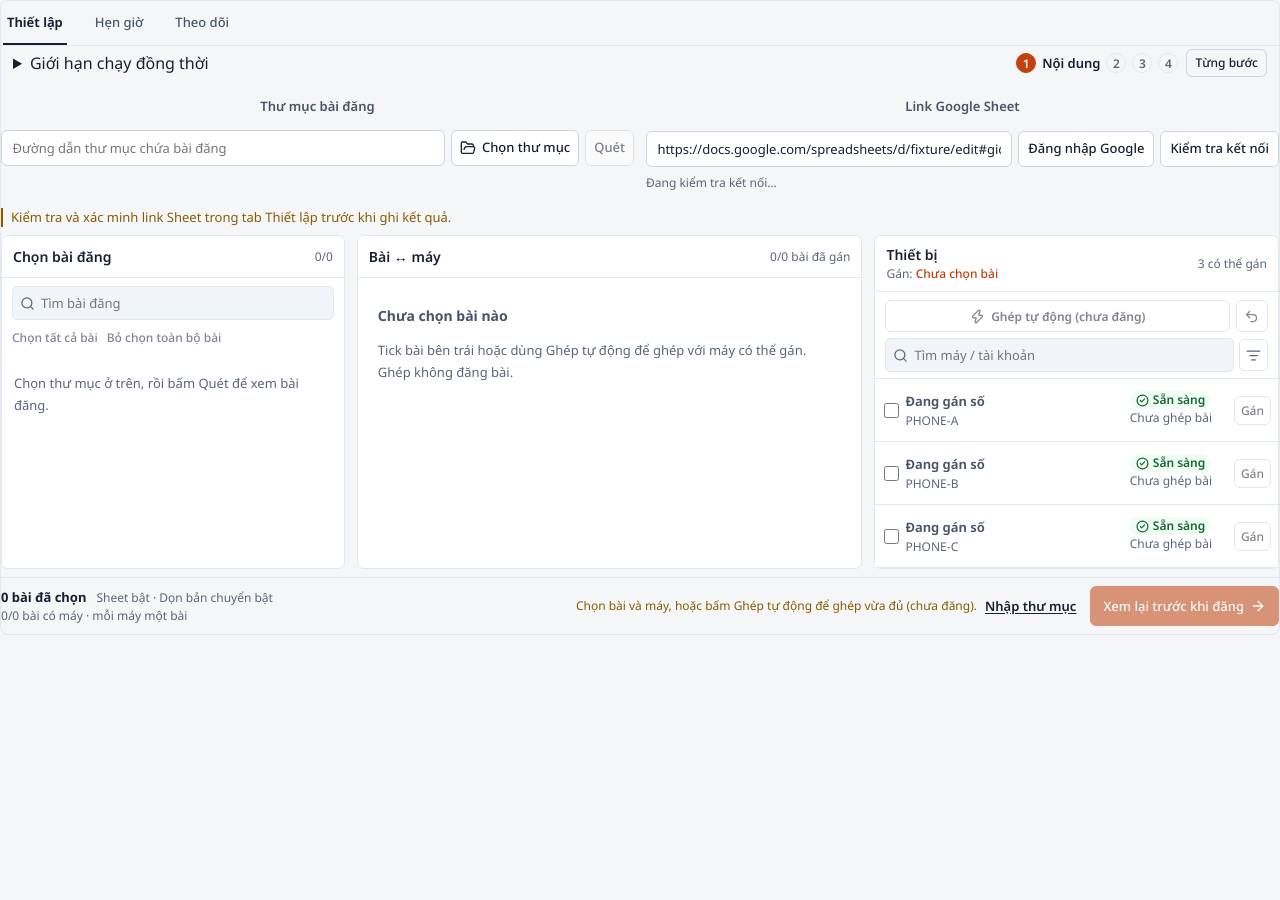
production publish wizard › preflight reads device checks without stopping owners or starting a post
The width and height of the screenshot is (1280, 900).
Click the button "Chọn thư mục". click: (515, 148)
box: x1=451 y1=130 x2=579 y2=166
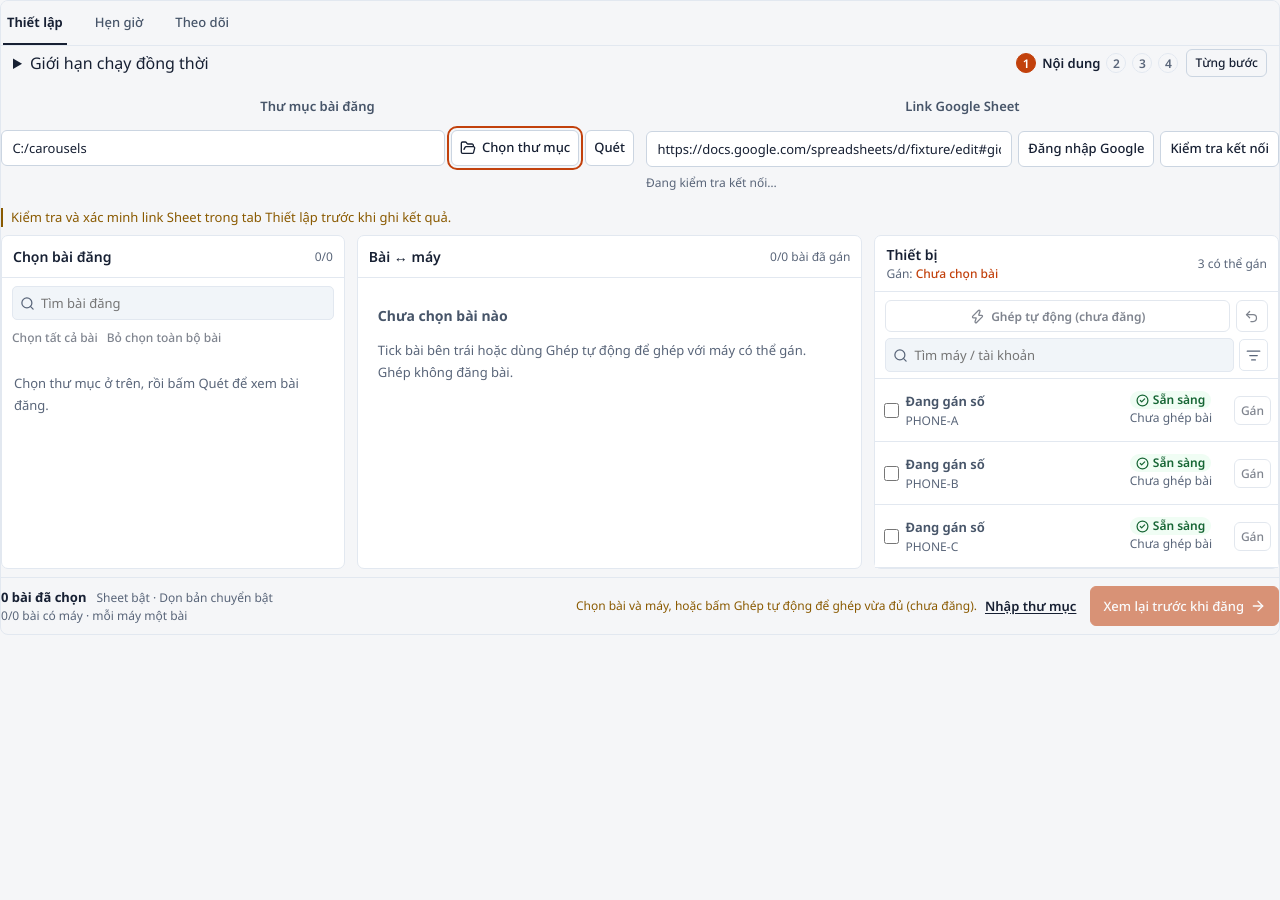
Click the button "Quét". click: (610, 148)
box: x1=585 y1=130 x2=634 y2=166
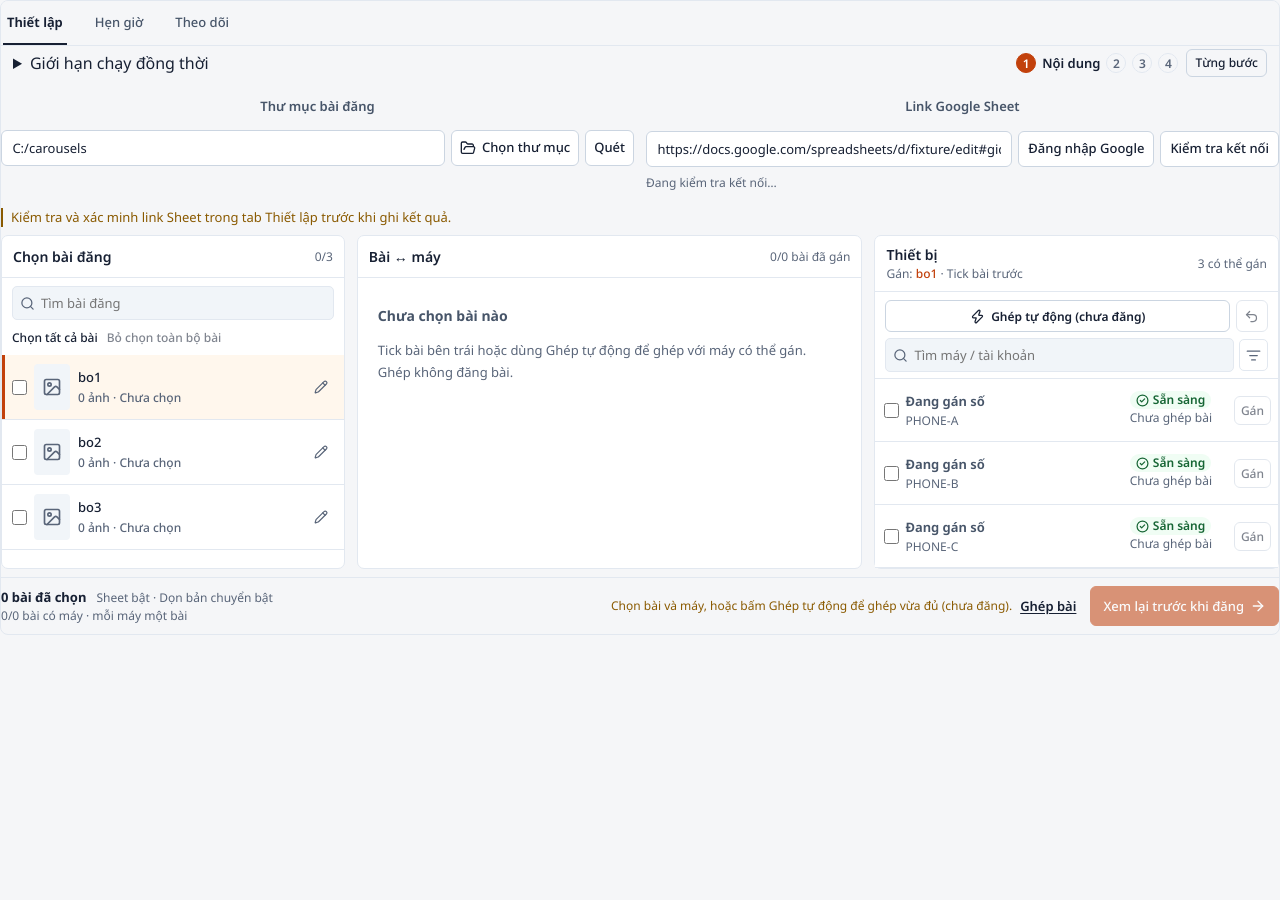
Click the checkbox named "Chọn bo1". click: (20, 387)
box: x1=12 y1=380 x2=27 y2=395
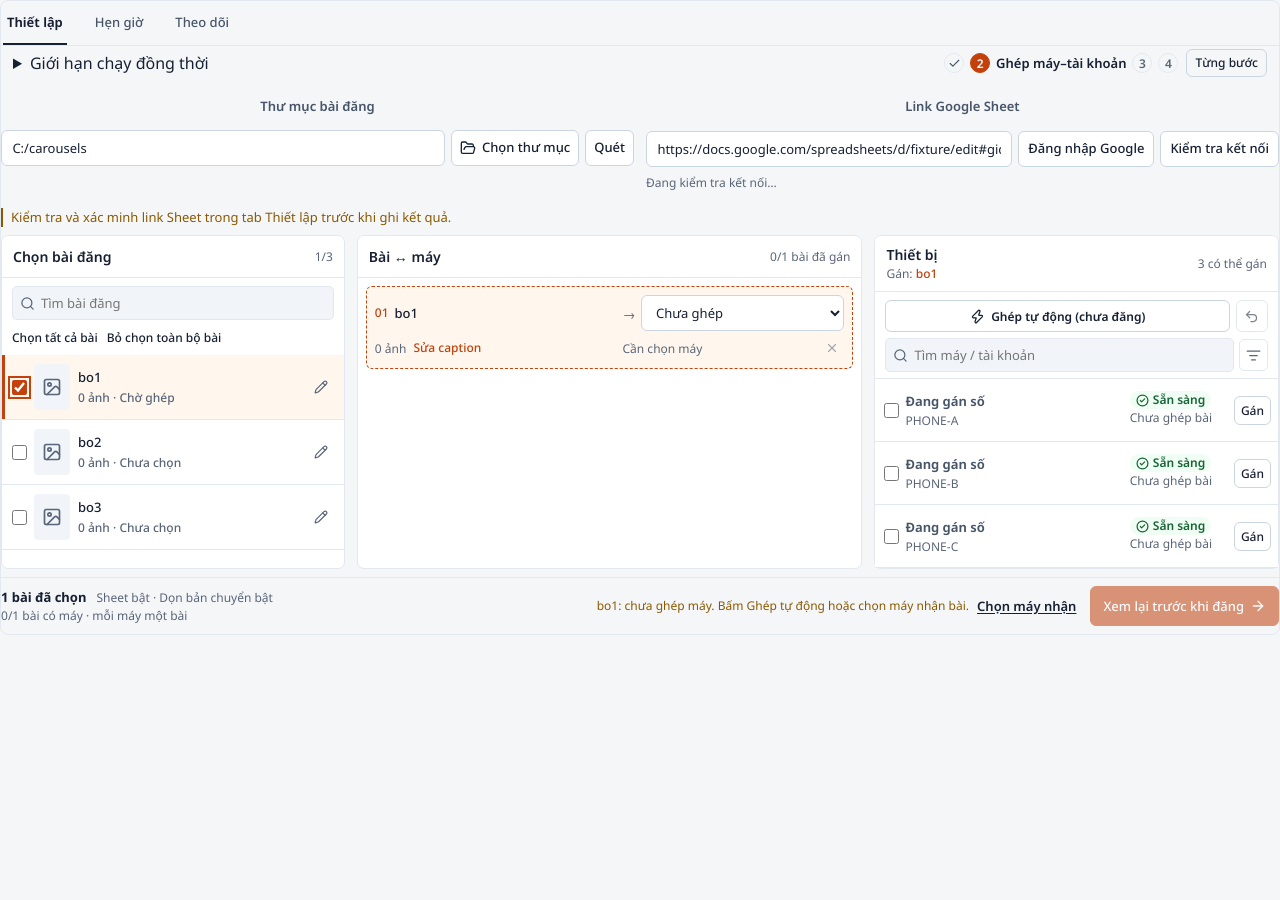
Click the button "Ghép tự động (chưa đăng)". click: (1058, 316)
box: x1=886 y1=300 x2=1230 y2=332
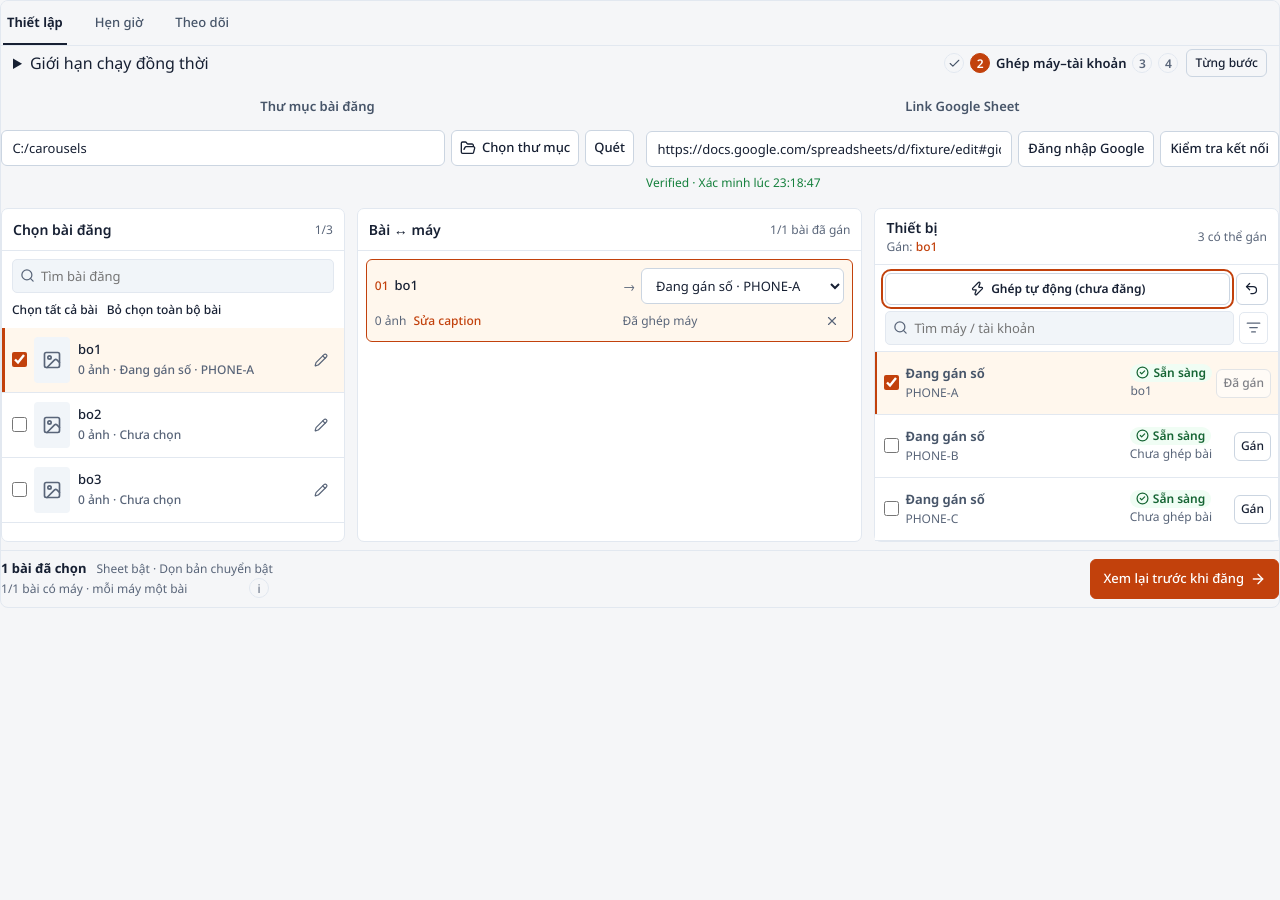
Result: the button "Xem lại trước khi đăng" is enabled
Click the button "Xem lại trước khi đăng". click: (1185, 579)
box: x1=1090 y1=559 x2=1279 y2=599
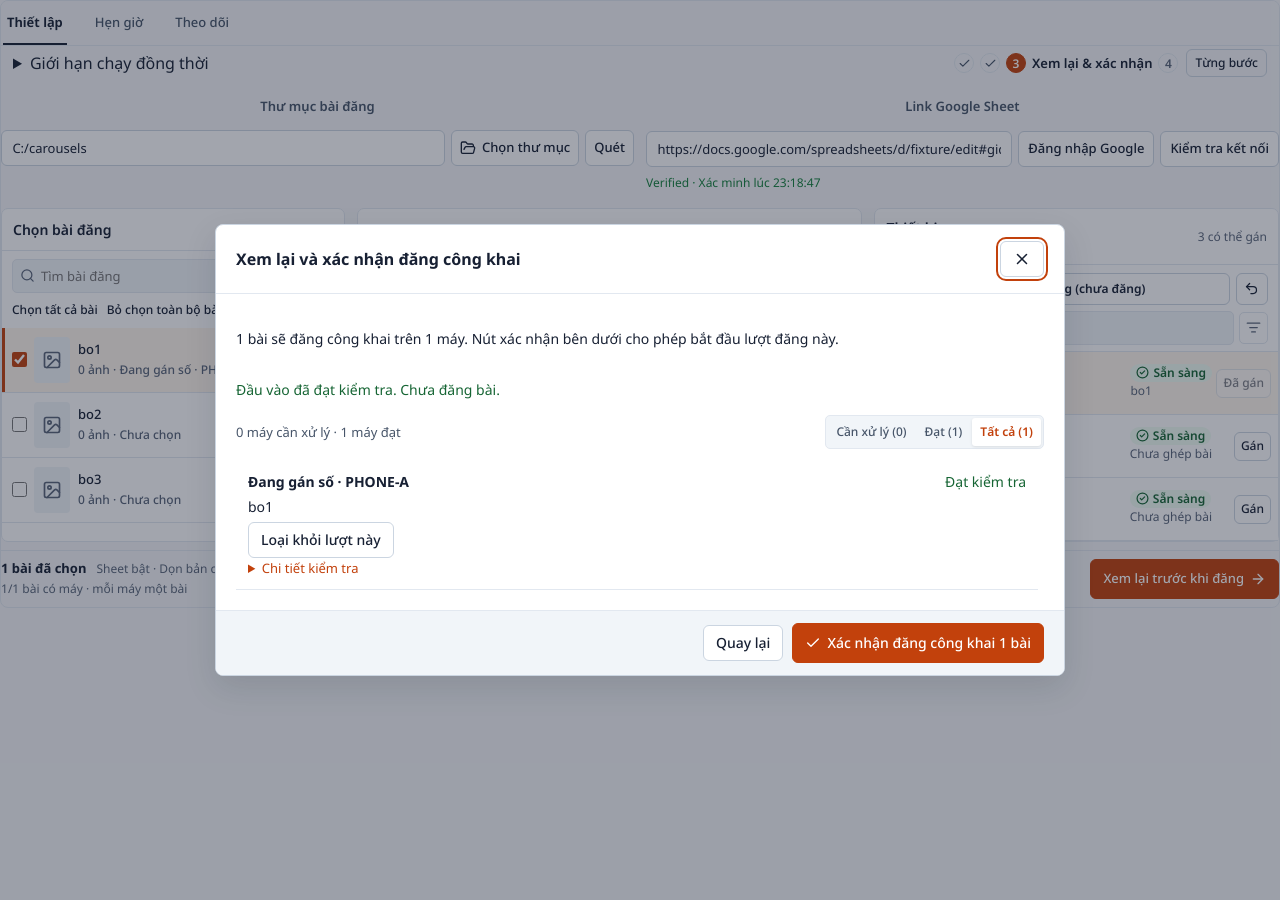
Result: the text "Đầu vào đã đạt kiểm tra. Chưa đăng bài." is shown at x1=236 y1=380 x2=500 y2=399
